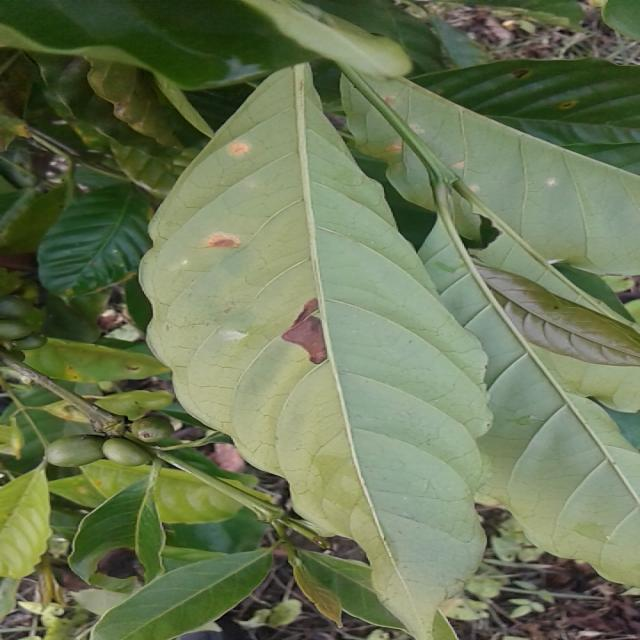Enfermedad-Roya: (137, 62, 493, 640)
